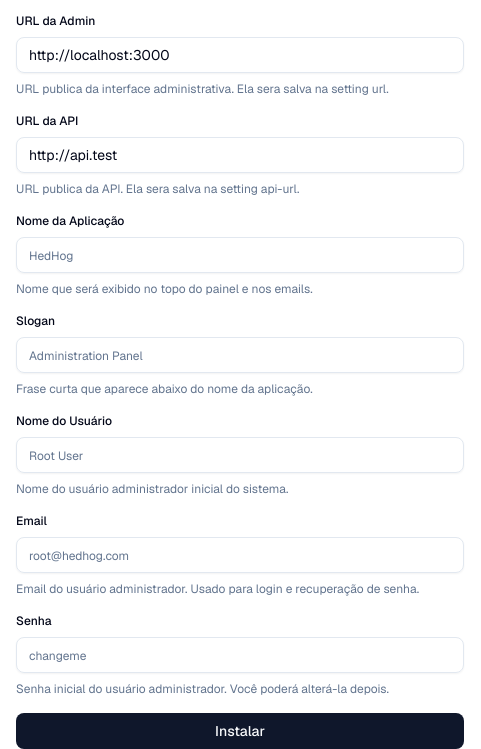
Test: InstallationProvider › submissão do formulário › exibe mensagem de erro genérica quando a API não retorna "message"
The image size is (481, 749).
(page scrolled)
Click the button "Instalar" at x=240, y=731, box [16,713,464,748]
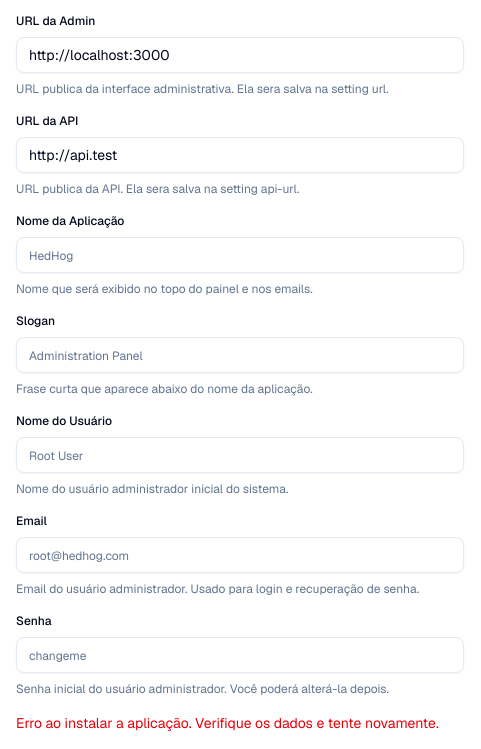
Now the text "Erro ao instalar a aplicação. Verifique os dados e tente novamente." is shown, box [16,713,464,733]
